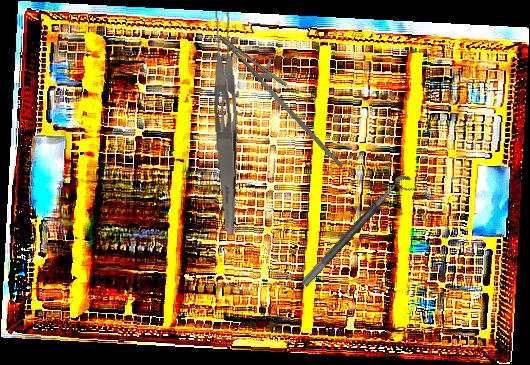Dressing Forceps: (209, 10, 246, 235)
Fixation Ring: (299, 170, 420, 297)
Needle Holder: (204, 24, 366, 169)
